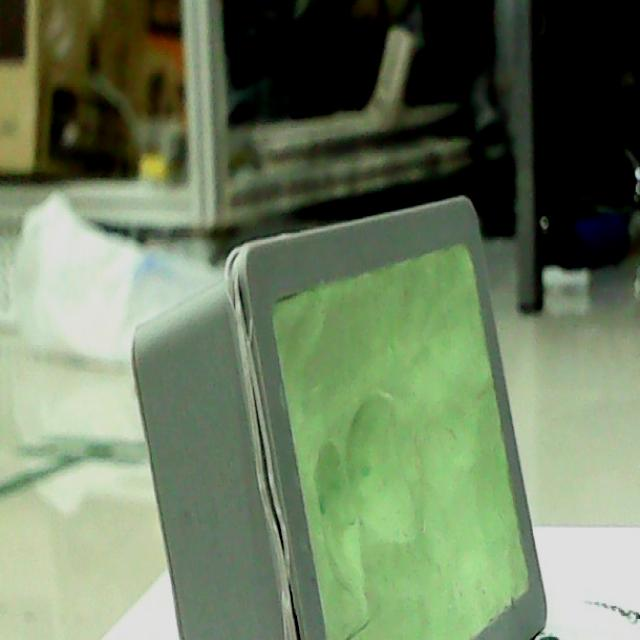block: (135, 198, 542, 640)
